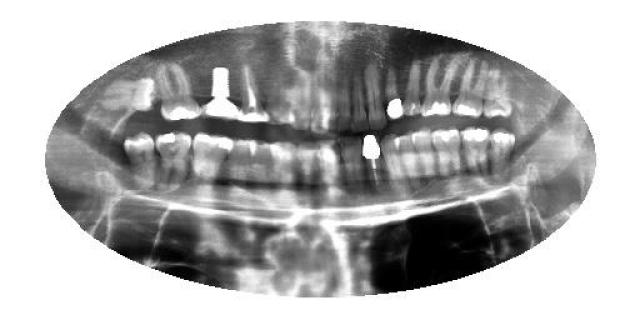Fillings: (158, 66, 198, 128), (195, 131, 233, 190), (158, 132, 194, 192), (452, 60, 488, 120), (421, 59, 455, 116), (461, 127, 491, 185), (433, 128, 462, 178), (490, 129, 516, 181), (385, 60, 406, 121)
Implant: (235, 61, 266, 128), (203, 66, 235, 122), (364, 134, 384, 198)
Restorations: (102, 72, 156, 126)
